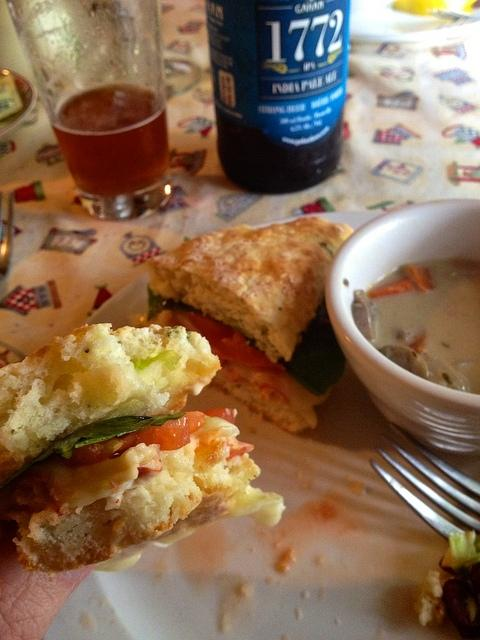lettuce: (0, 412, 185, 492), (276, 300, 346, 396)
mushroom: (377, 344, 428, 380), (351, 289, 375, 341), (396, 328, 412, 340)
tomato: (64, 410, 206, 468), (168, 312, 286, 370), (202, 408, 236, 424)
